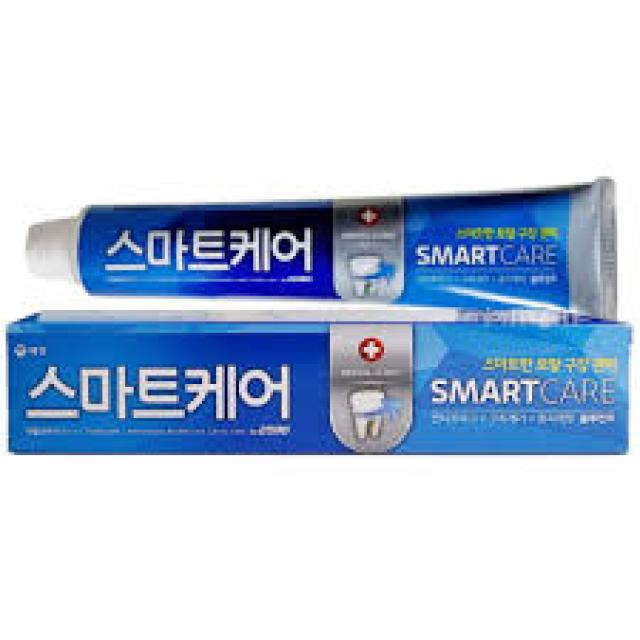toothpaste: (14, 171, 640, 328)
